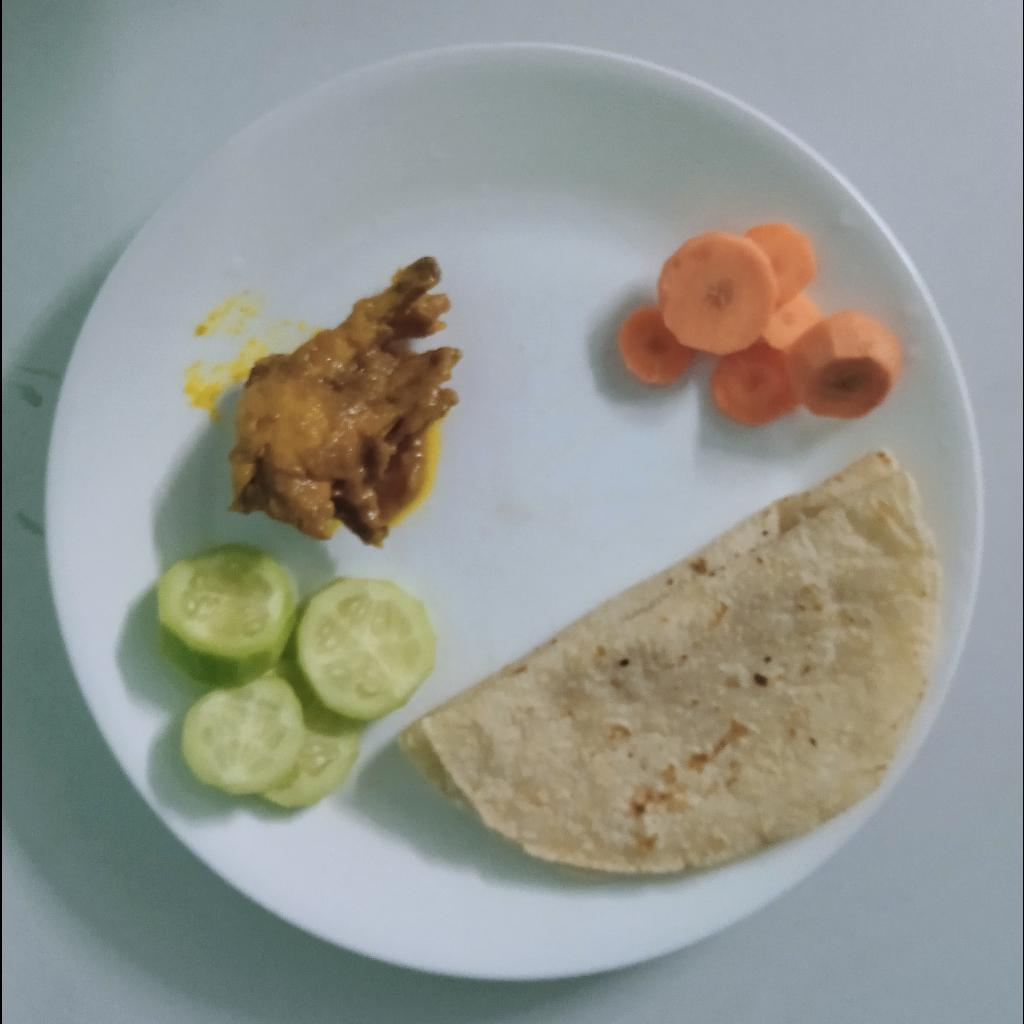carrot: (617, 224, 903, 428)
chicken: (228, 258, 461, 544)
cucumber: (158, 545, 438, 811)
ruti: (396, 448, 941, 875)
